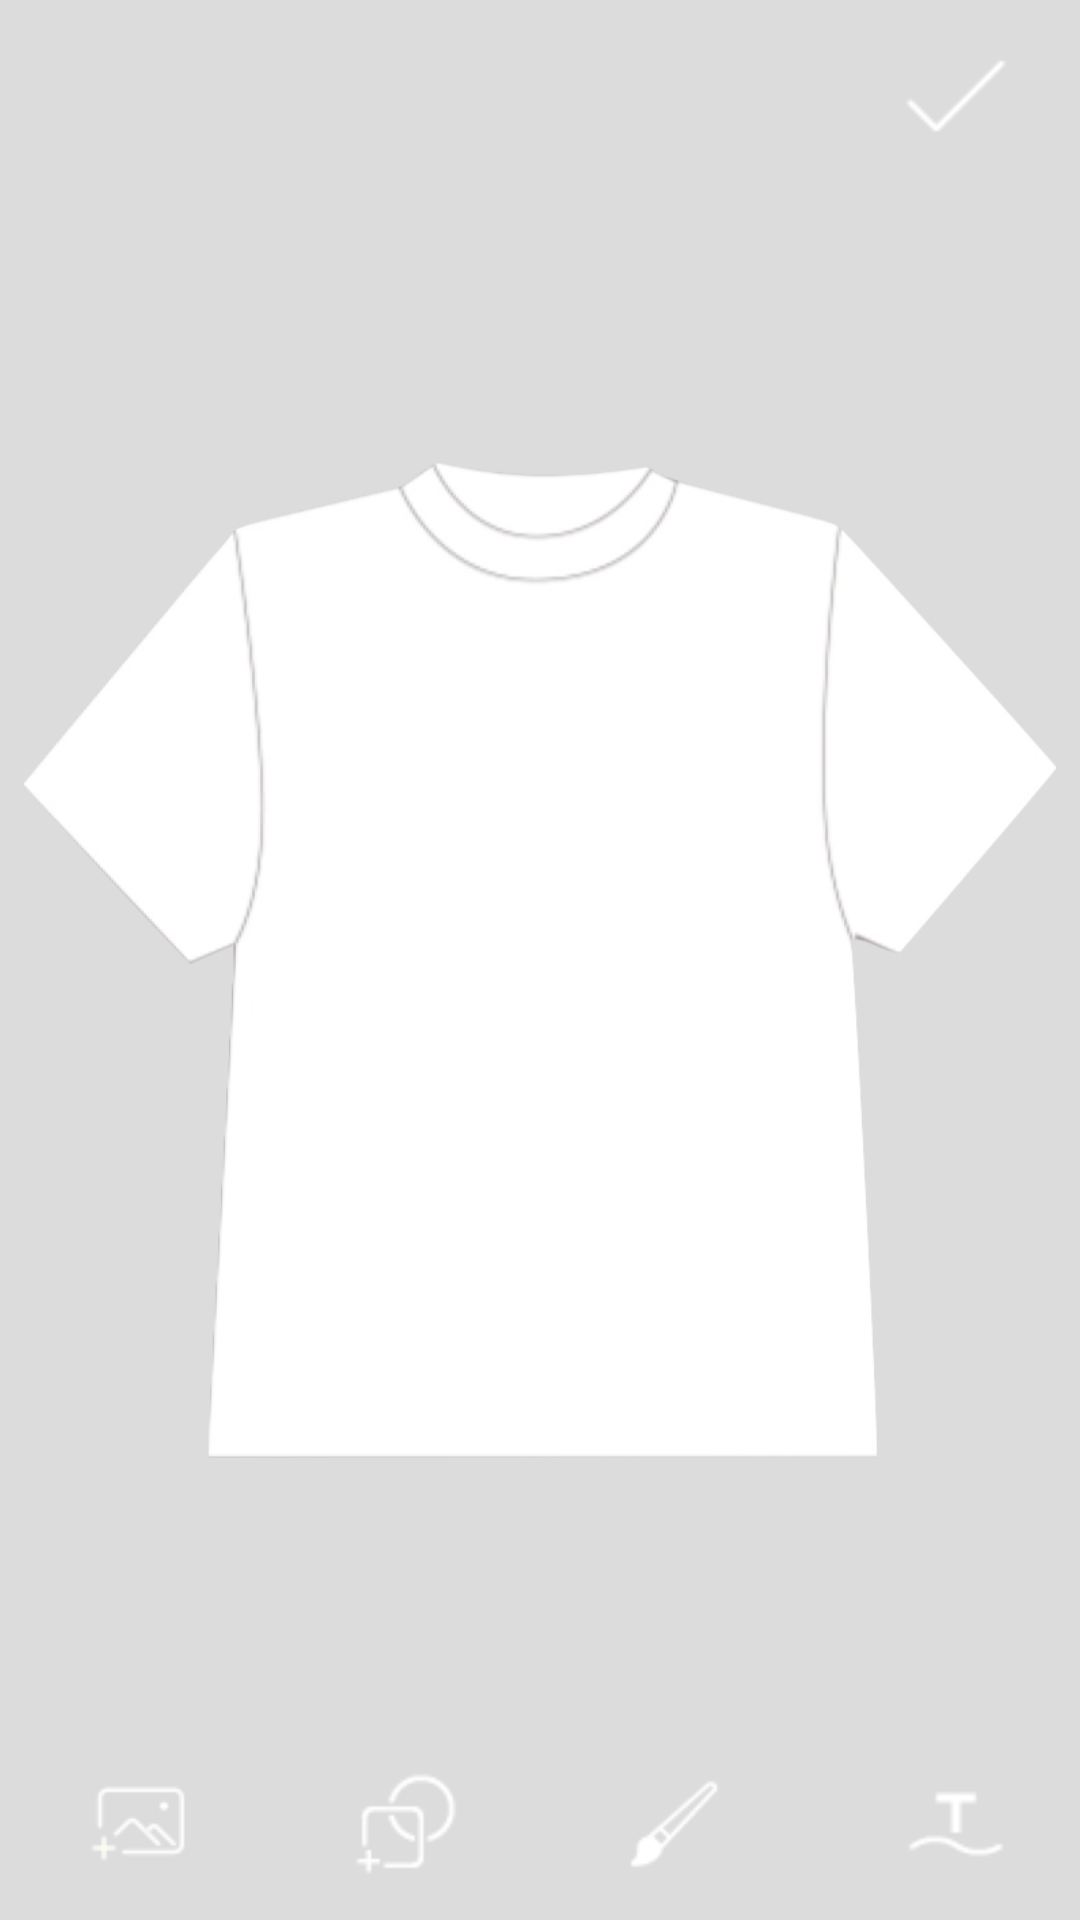

Point at icon controls on the screen. Image size 1080px x 1920px, points as point (x, y).
add curved text: point (955, 1824)
add photo: point (138, 1823)
add shape: point (406, 1824)
done bounding: point (956, 96)
draw: point (674, 1824)
